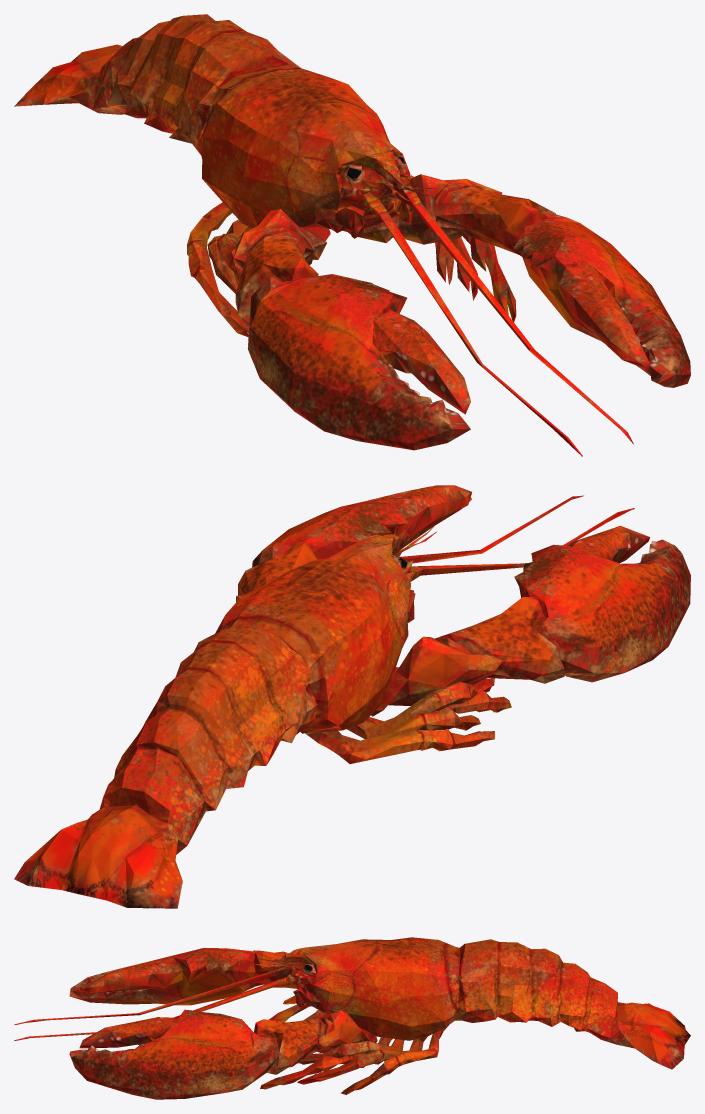
Rendered from lobsterv2.fbx.
3 views of the same model, one above another, from view 1: azimuth 30°, elevation 25°; view 2: azimuth 150°, elevation 25°; view 3: azimuth 270°, elevation 25° (orthographic). The views are drawn at different scales.
Visible parts, largest first — view 1: Lobster_LOD0; view 2: Lobster_LOD0; view 3: Lobster_LOD0.
Boxes of the visible parts, x1,y1,x2,y2 form: Lobster_LOD0: [14, 14, 690, 456]; Lobster_LOD0: [14, 485, 690, 908]; Lobster_LOD0: [14, 937, 690, 1099].
Size of what is drawn, in the model's own units: 3.52 by 1.71 by 8.78.
Materials: 2 (2 with a texture image).
